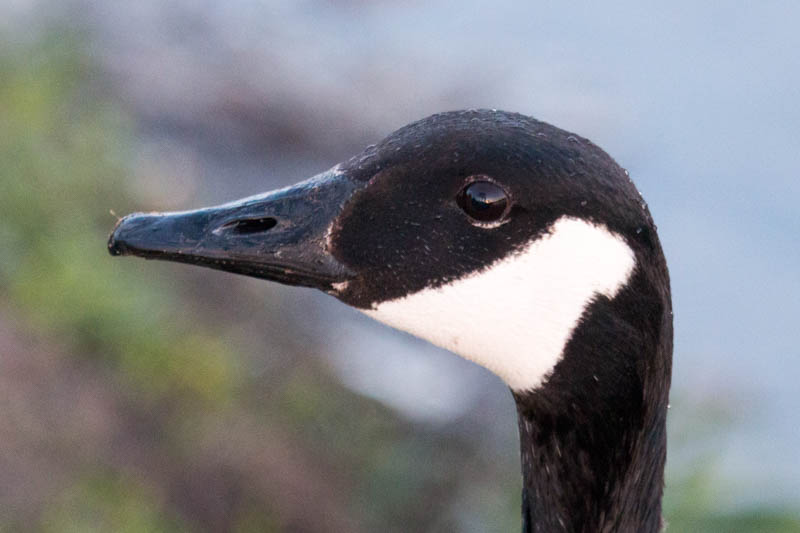goose-head: (106, 109, 674, 399)
